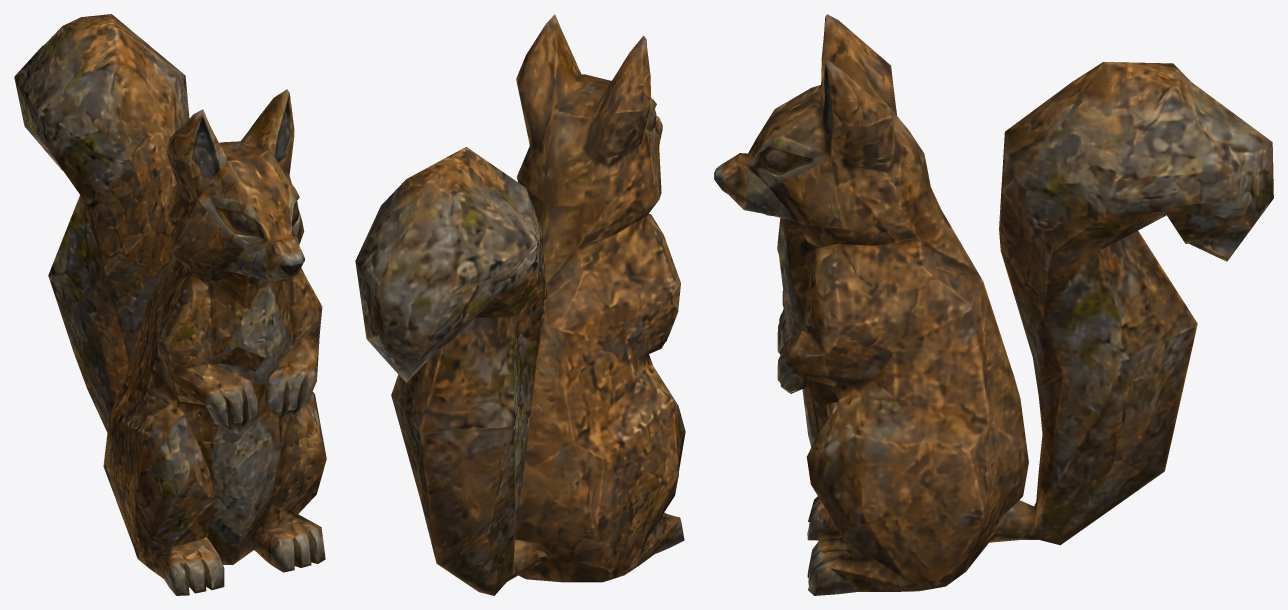
File: Squirrel.glb
3 views of the same model, side by side, from view 1: azimuth 30°, elevation 25°; view 2: azimuth 150°, elevation 25°; view 3: azimuth 270°, elevation 25° (orthographic). The views are drawn at different scales.
Visible parts, largest first — view 1: Squirrel; view 2: Squirrel; view 3: Squirrel.
Boxes of the visible parts, bbox=[...] form: Squirrel: bbox=[14, 14, 326, 595]; Squirrel: bbox=[355, 14, 685, 595]; Squirrel: bbox=[714, 14, 1273, 595].
Size of the model in its own units: 0.3901 by 0.9531 by 0.9297.
Materials: 1 (1 with a texture image).
